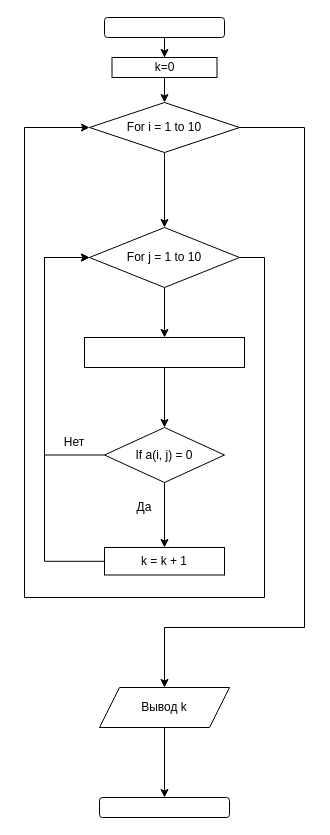
Image size: 330x835. Some labels were removed from this diagram. The centre of each missing label's shape, as x and y in pixels:
a(i, j) = Int(Rnd * 20): the point at 164,352
Конец: the point at 164,807
Начало: the point at 164,27
